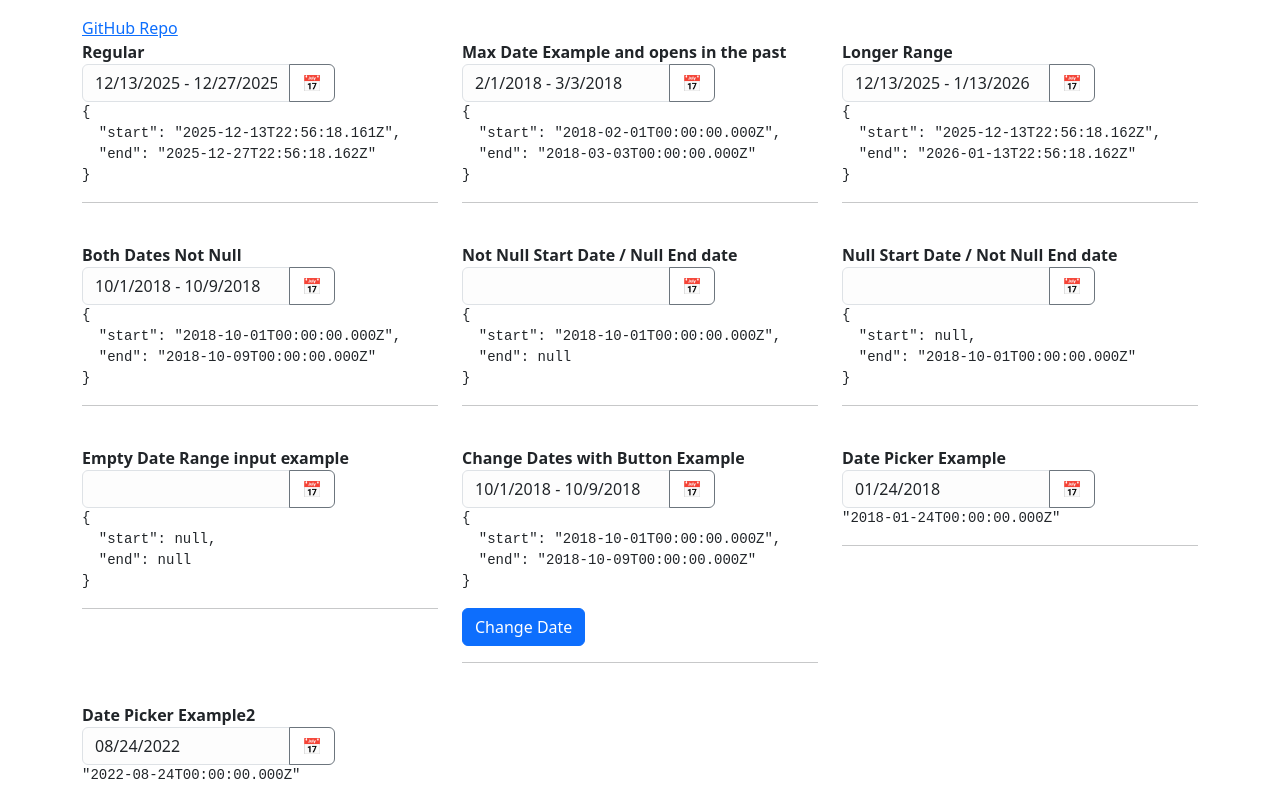
Test: date-range-picker tests › should change dates when click date picker: 1
Click the field named "click to select a date range" below "Both Dates Not Null".
click(186, 286)  # box [82,267,290,305]
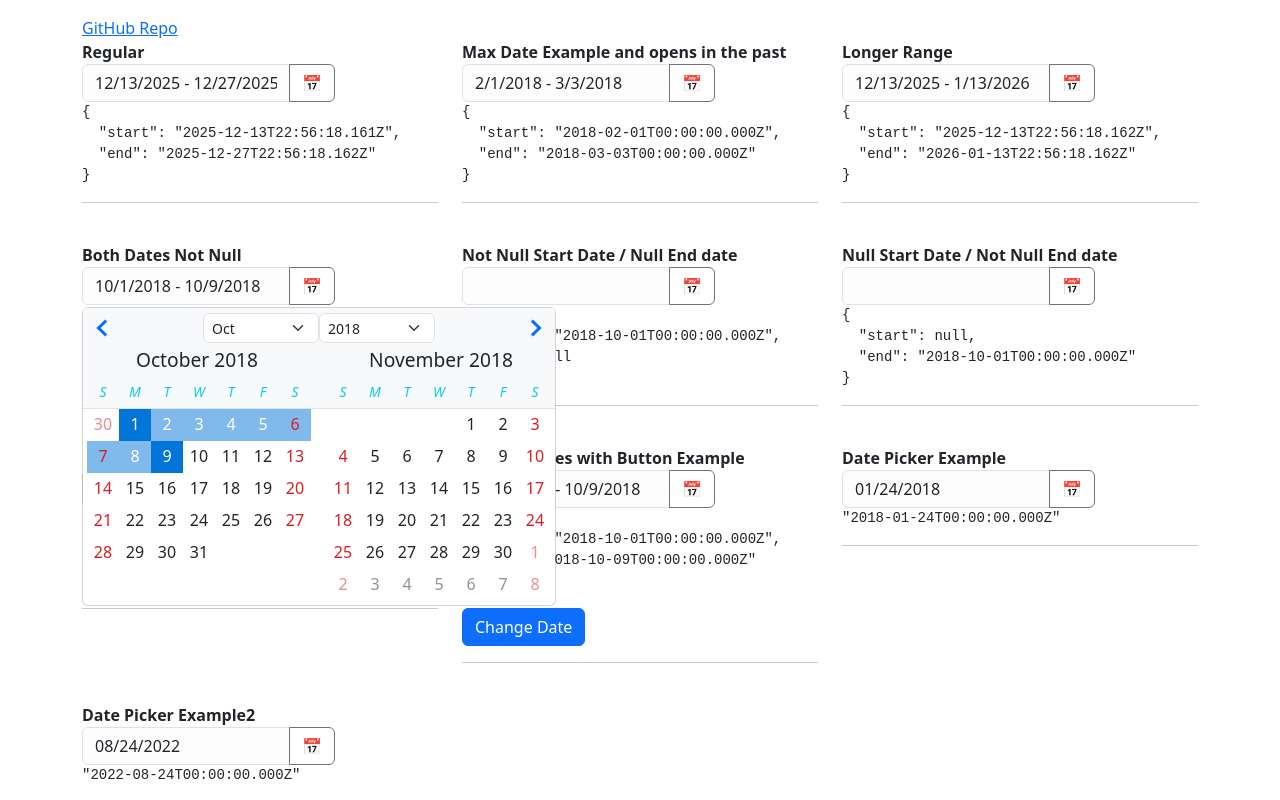
Click the 1st text "16".
click(167, 488)  # box [158,477,176,499]
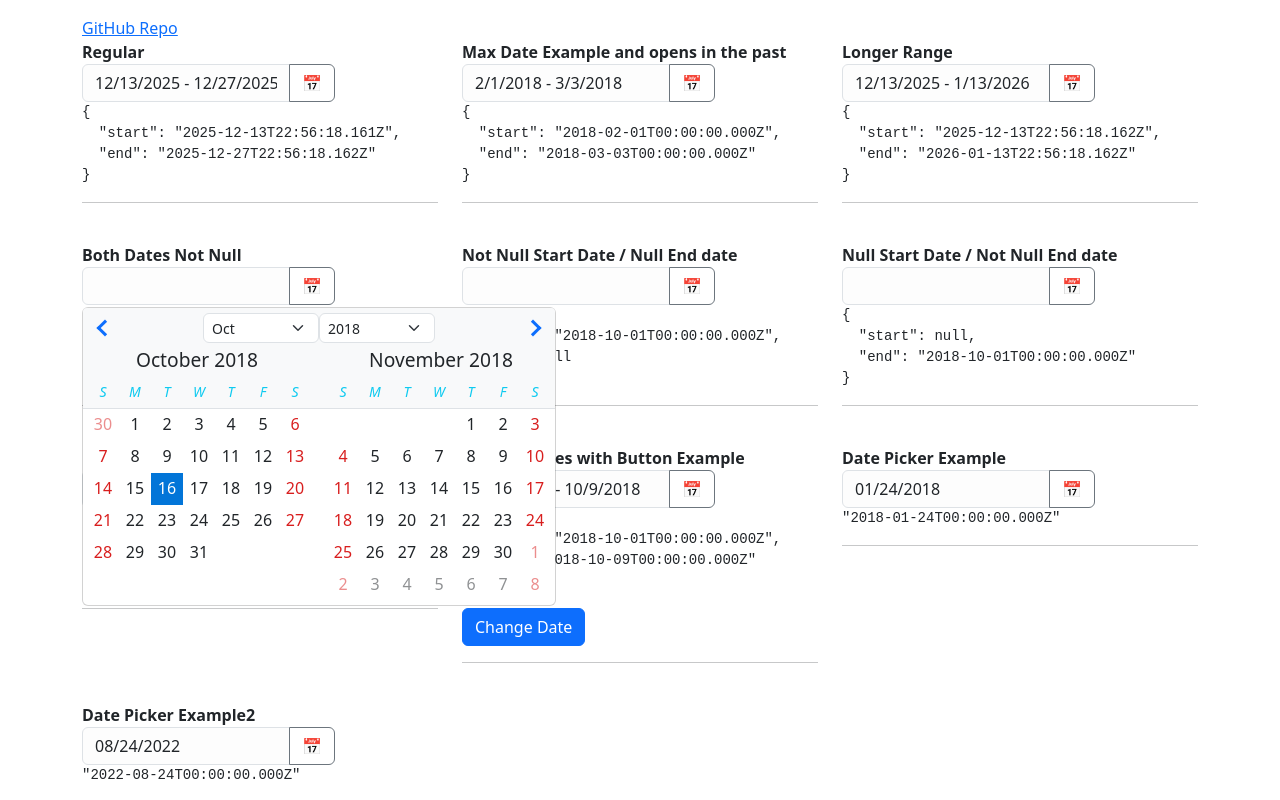
Click the 2nd text "6".
click(407, 456)  # box [402,445,411,467]
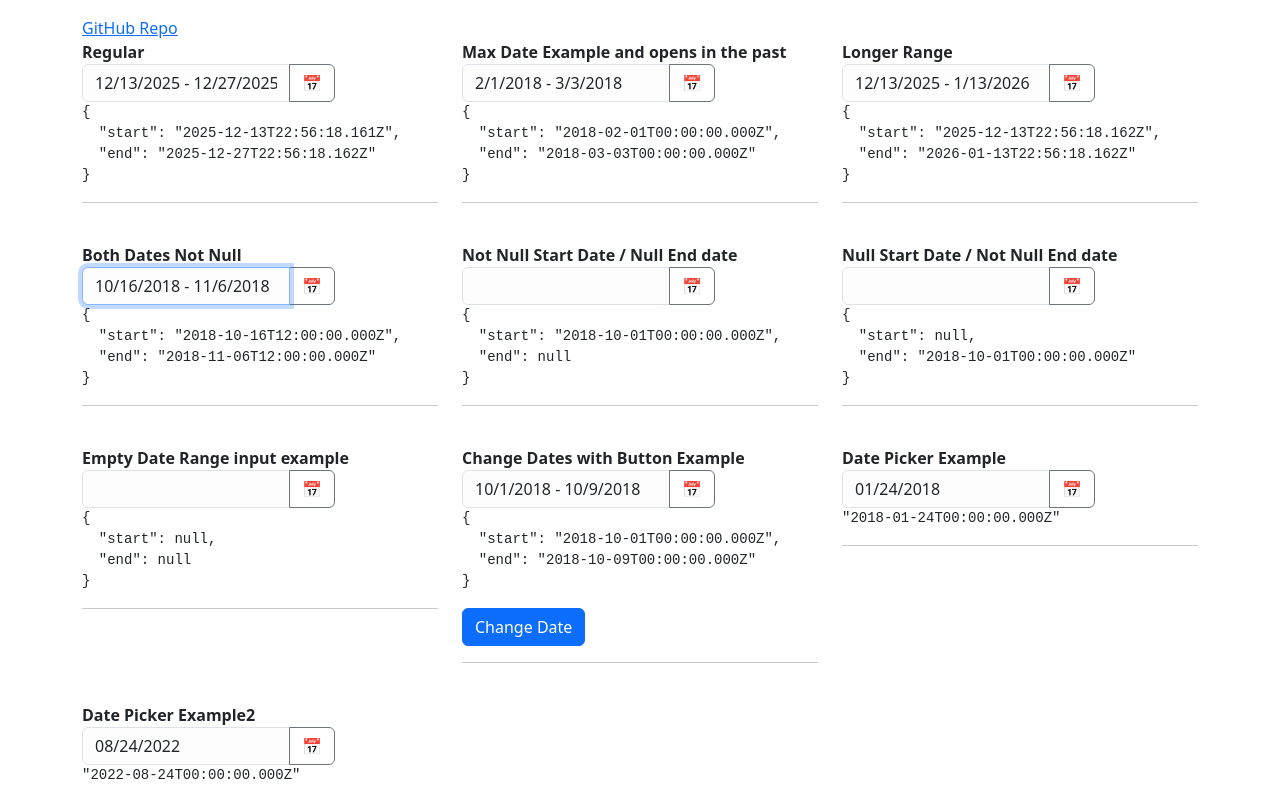
Expected: the field named "click to select a date range" below "Both Dates Not Null" holds "10/16/2018 - 11/6/2018", [82,267,290,305]
